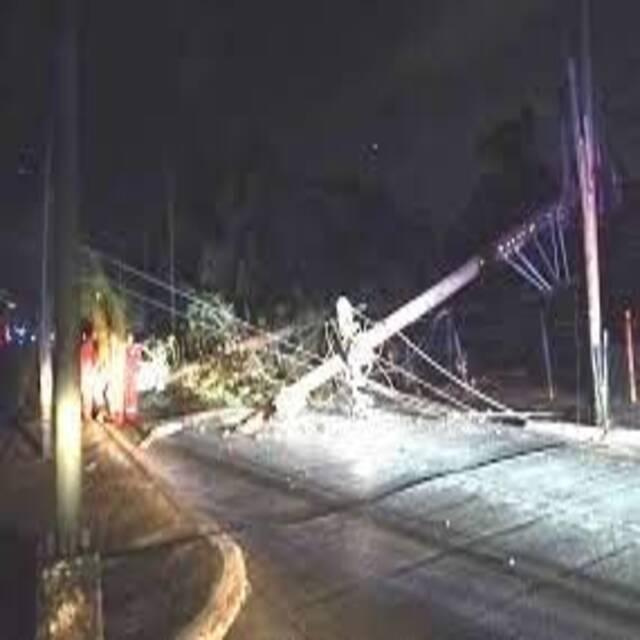Inclined Pole: (256, 55, 615, 429)
